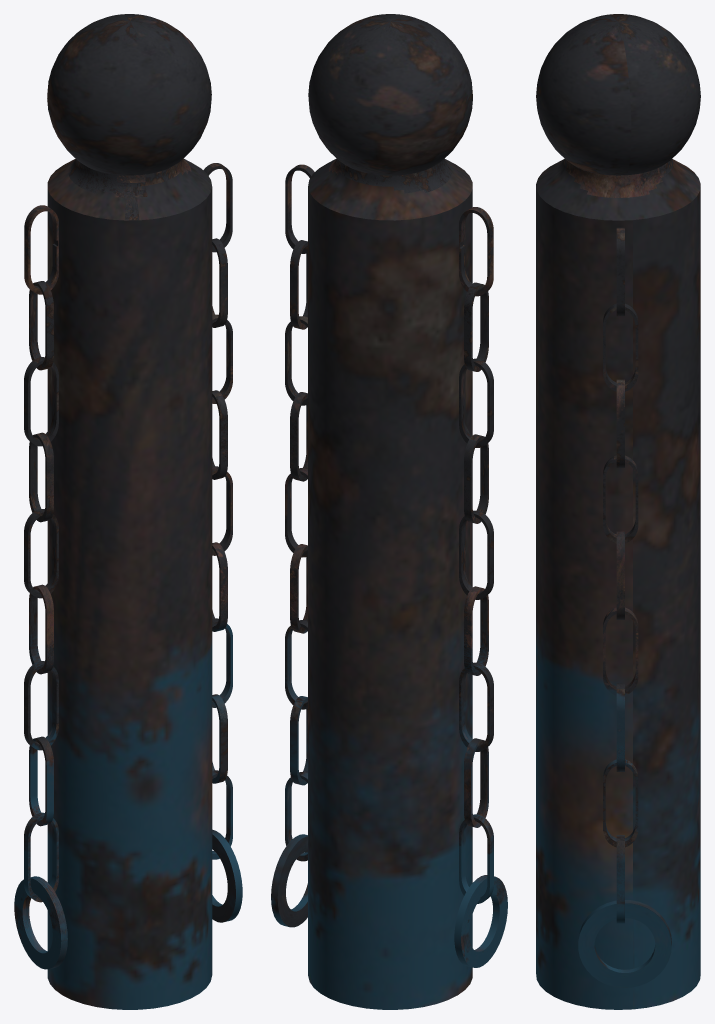
Rendered from metal_pillar_with_dirt_and_water_grunge.glb.
3 renders of one model, left to right at view 1: azimuth 30°, elevation 25°; view 2: azimuth 150°, elevation 25°; view 3: azimuth 270°, elevation 25°, orthographic.
Parts seen in each view (by area): view 1: Tronc, Haut, Anneaux_2 (×8), Anneaux_4 (×8), Fin_1 (×2), Anneaux_3 (×2); view 2: Tronc, Haut, Anneaux_2 (×8), Anneaux_4 (×8), Fin_1 (×2), Anneaux_3 (×2); view 3: Tronc, Haut, Fin_1, Anneaux_2 (×4), Anneaux_4 (×4), Anneaux_3.
Boxes of the visible parts, left/top/right/bottom form: Tronc: left=47, top=158, right=212, bottom=1009; Haut: left=47, top=14, right=211, bottom=175; Anneaux_2 (×8): left=29, top=238, right=227, bottom=826; Anneaux_4 (×8): left=24, top=314, right=232, bottom=902; Fin_1 (×2): left=14, top=829, right=242, bottom=969; Anneaux_3 (×2): left=24, top=163, right=232, bottom=294; Tronc: left=308, top=158, right=472, bottom=1009; Haut: left=308, top=14, right=472, bottom=175; Anneaux_2 (×8): left=290, top=240, right=488, bottom=827; Anneaux_4 (×8): left=285, top=316, right=493, bottom=903; Fin_1 (×2): left=271, top=834, right=507, bottom=967; Anneaux_3 (×2): left=285, top=164, right=493, bottom=296; Tronc: left=536, top=158, right=700, bottom=1009; Haut: left=536, top=14, right=700, bottom=175; Fin_1: left=578, top=900, right=671, bottom=987; Anneaux_2 (×4): left=603, top=303, right=638, bottom=847; Anneaux_4 (×4): left=616, top=379, right=624, bottom=923; Anneaux_3: left=616, top=227, right=624, bottom=316.
Size of the model in its own units: 0.4496 by 2 by 0.3136.
Materials: 1 (1 with a texture image).
